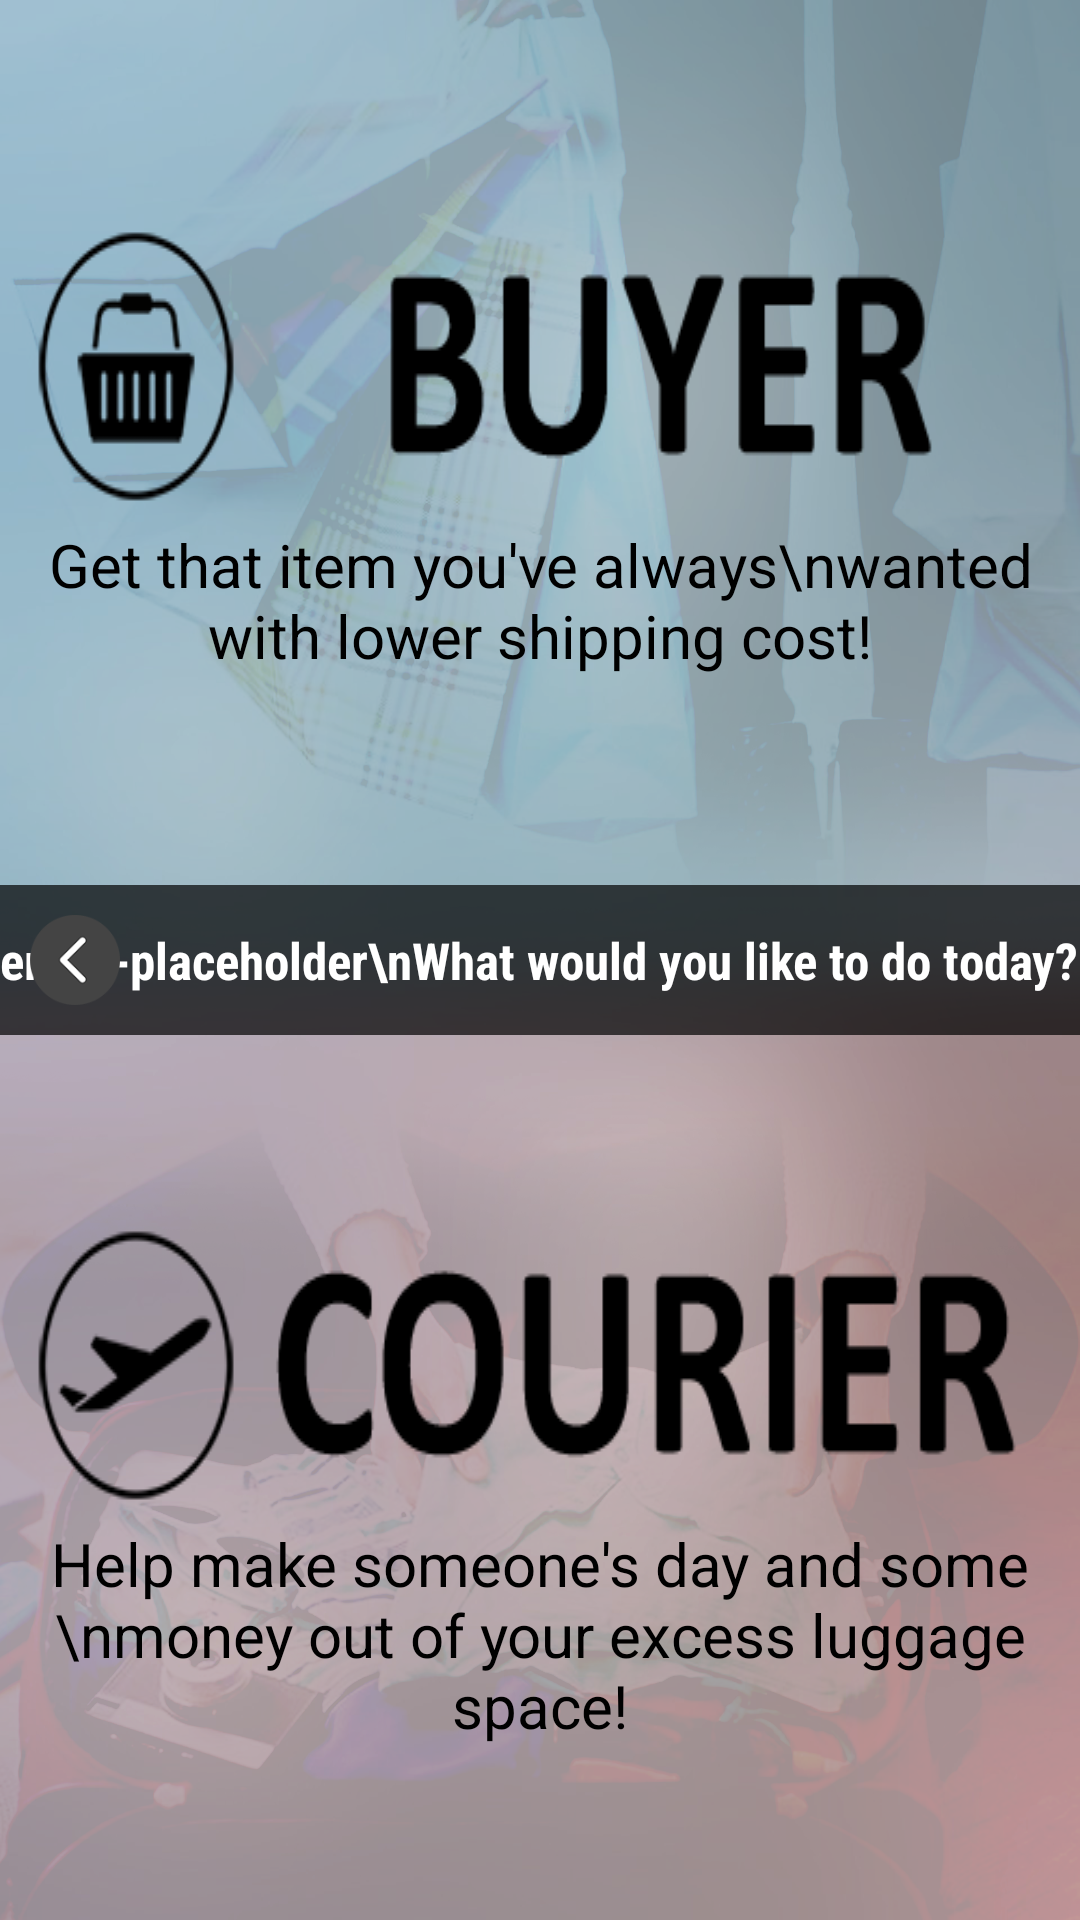

Locate icon controls on the screen. Image size 1080×1920, boxes as (x1, y1, x2, y2).
prevbutton: (30, 915, 120, 1005)
